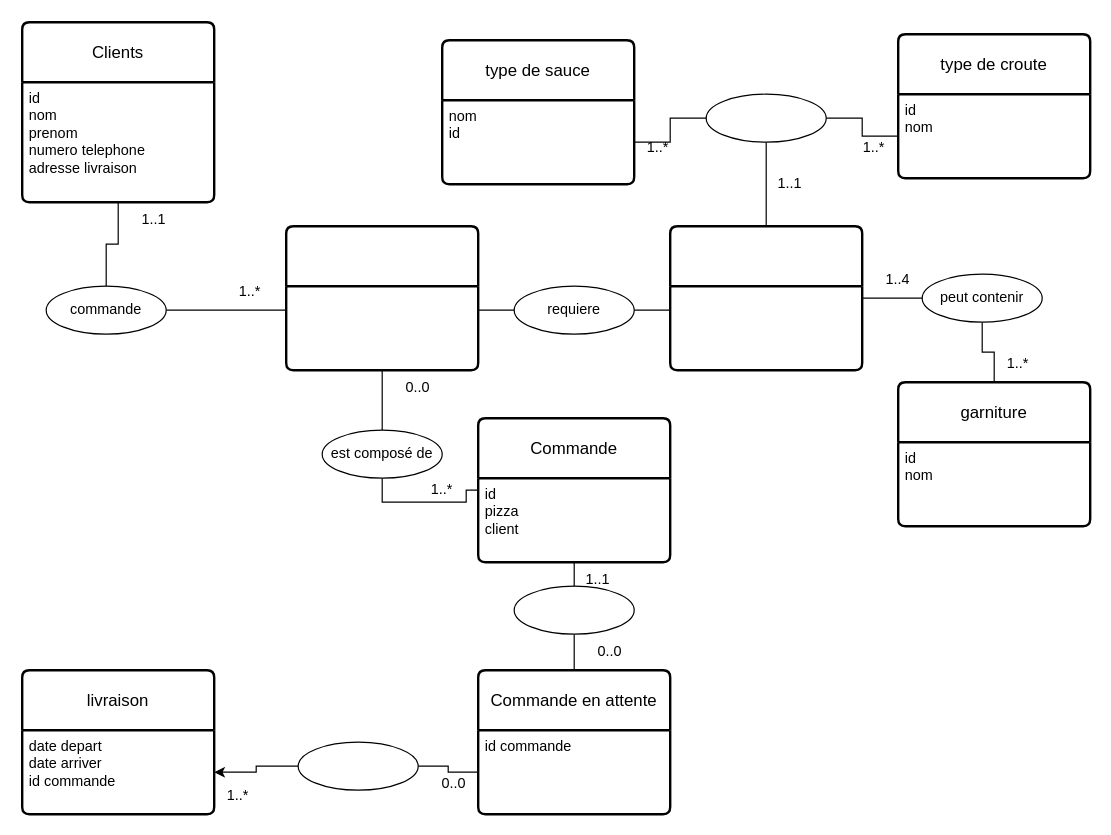
Image size: 1111x835. Some labels were removed from this diagram. Here are the shapes that lost their labels. From the top down, the centre of each, then its label:
At [765,117]: "a besoin de".
At [381,297]: "Pizza".
At [765,297]: "détail pizza".
At [573,609]: "devien".
At [357,765]: "doit etre".
